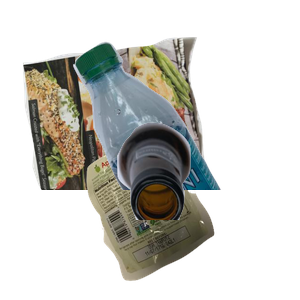glass: (115, 120, 300, 300)
paper: (20, 34, 221, 214)
plastic: (71, 39, 300, 219)
trash: (84, 126, 291, 300)
